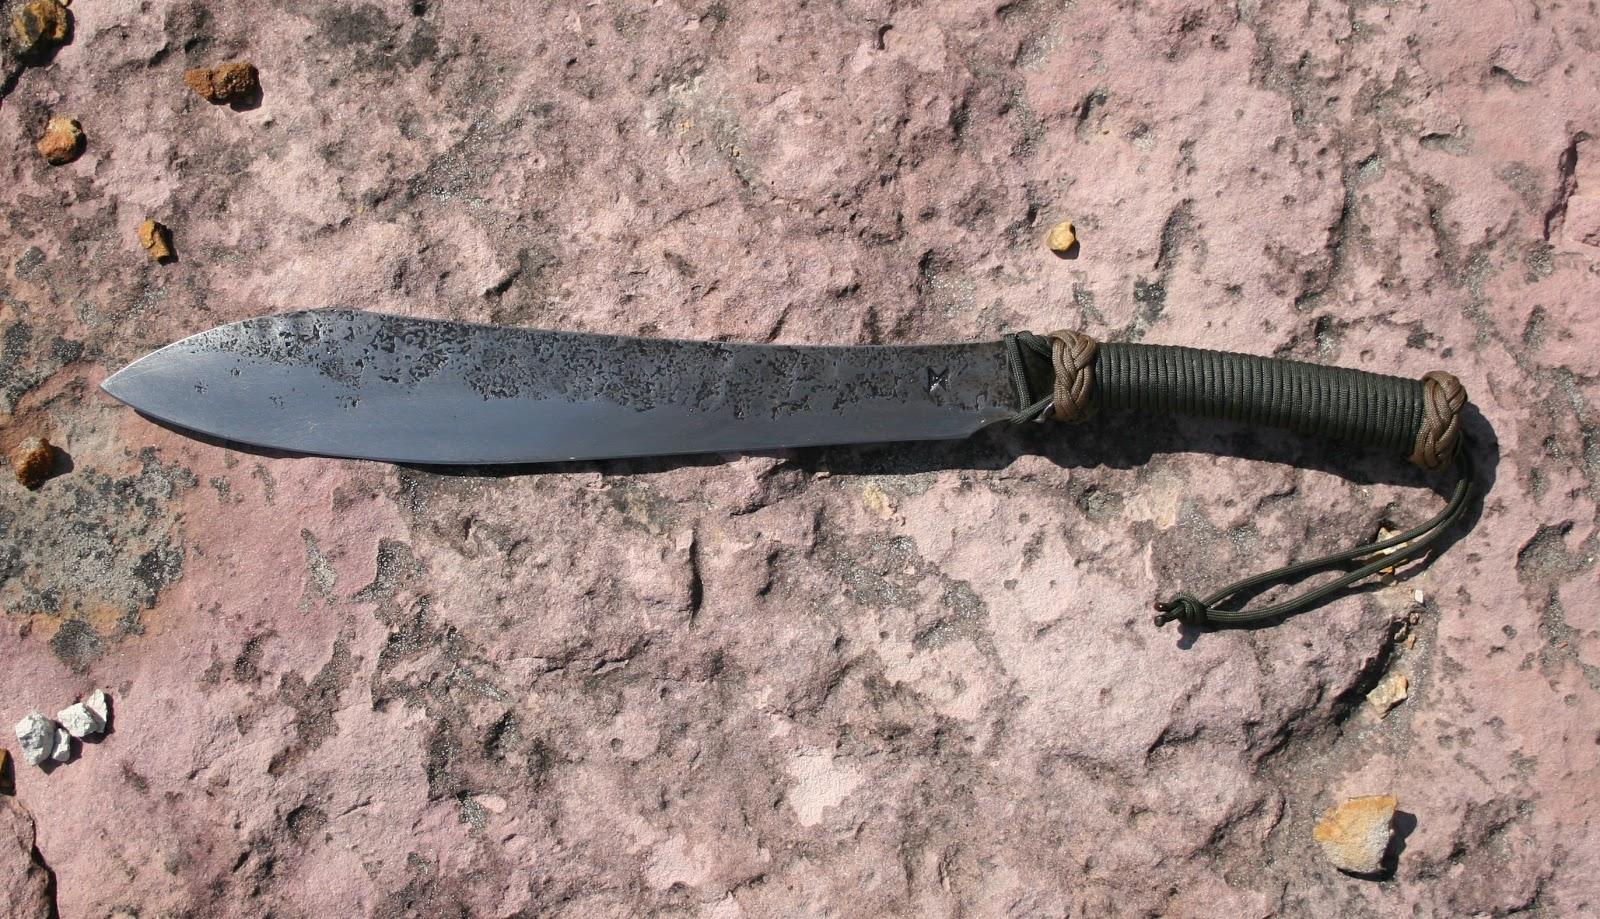facao: (103, 309, 1466, 468)
